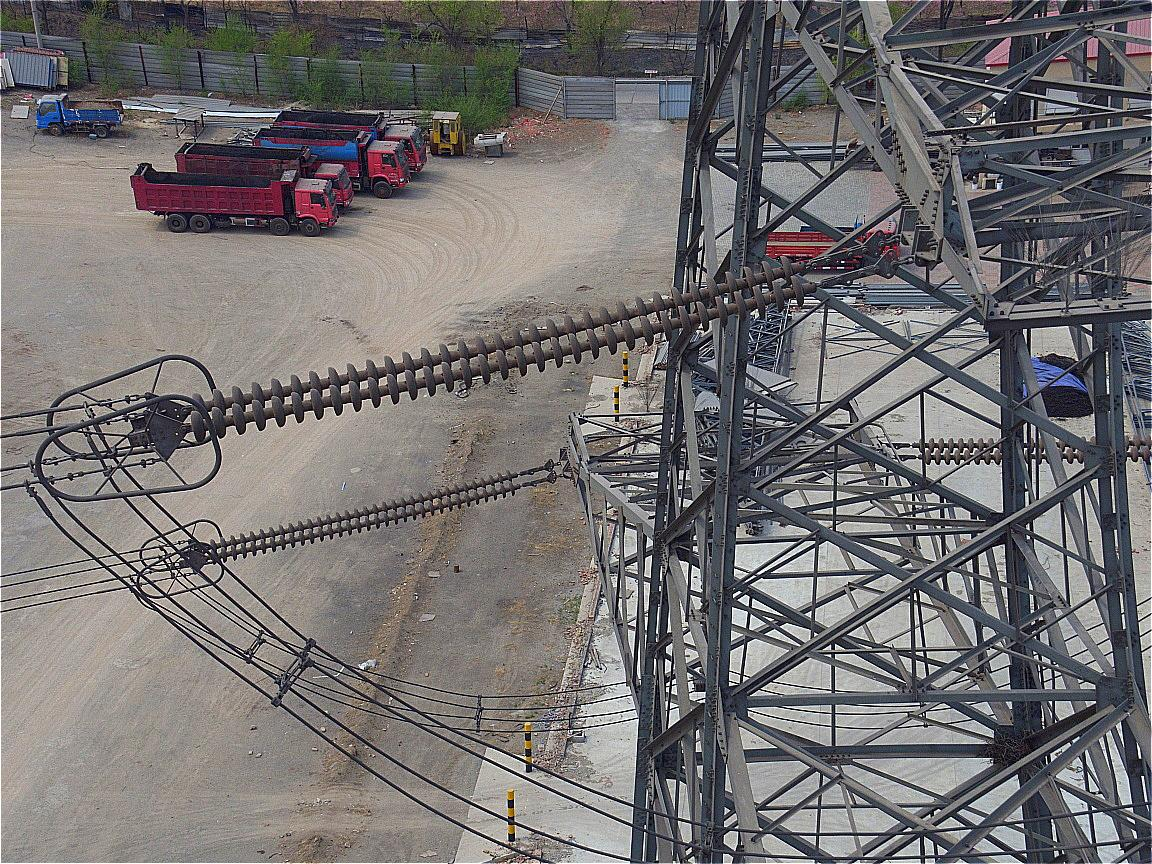insultor1: (172, 252, 839, 447), (212, 467, 531, 582)
